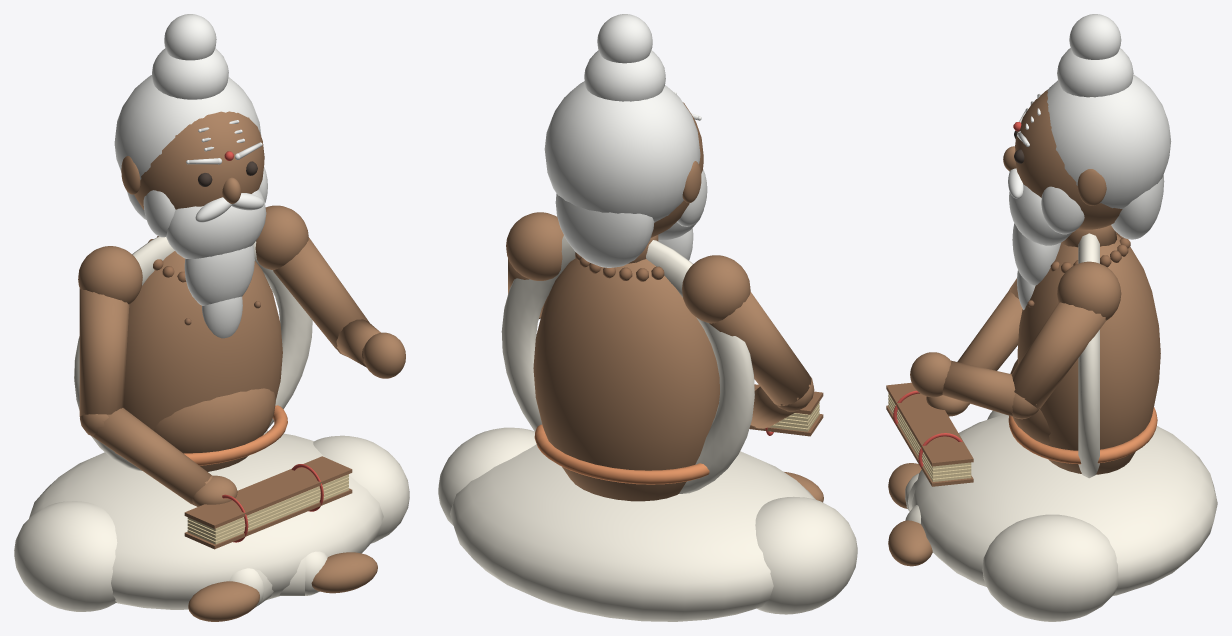
Rendered from valluvar.glb.
The picture shows the model from 3 angles, left to right: view 1: azimuth 30°, elevation 25°; view 2: azimuth 150°, elevation 25°; view 3: azimuth 270°, elevation 25°; orthographic projection. The views are drawn at different scales.
Parts seen in each view (by area): view 1: Valluvar; view 2: Valluvar; view 3: Valluvar.
Part boxes in pixels (box(x1,y1,x2,y2)): Valluvar: box(14, 14, 409, 621); Valluvar: box(438, 14, 857, 621); Valluvar: box(886, 14, 1217, 621).
Size of the model in its own units: 1.4 by 1.97 by 1.08.
